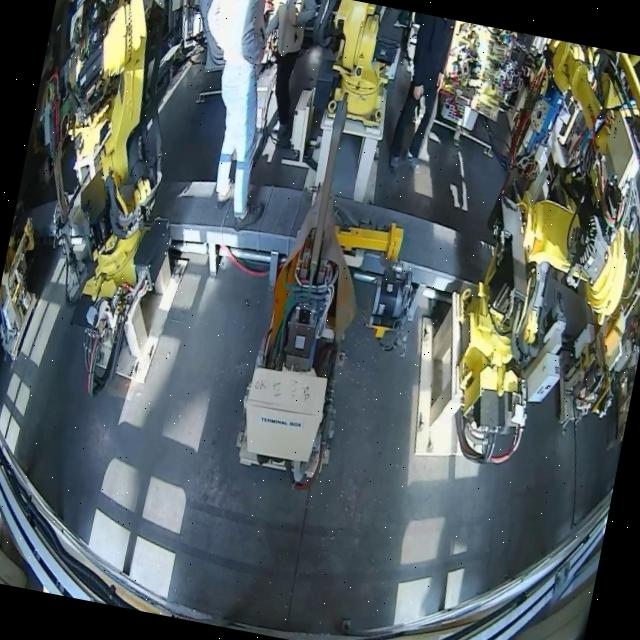Person: (167, 0, 306, 234), (385, 13, 456, 179), (244, 0, 320, 147)
